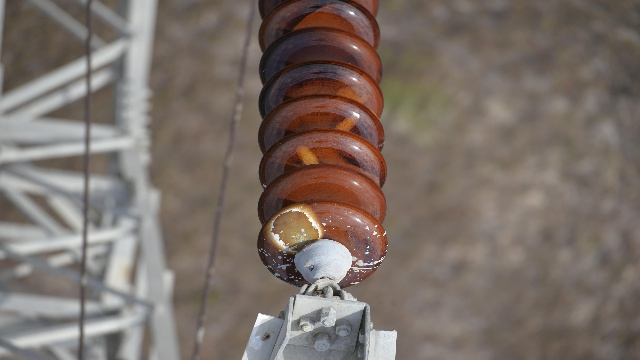insulator_unspecified: (252, 0, 390, 290)
pollution_flashover_local: (266, 201, 324, 260), (296, 141, 319, 170), (336, 113, 361, 133)
